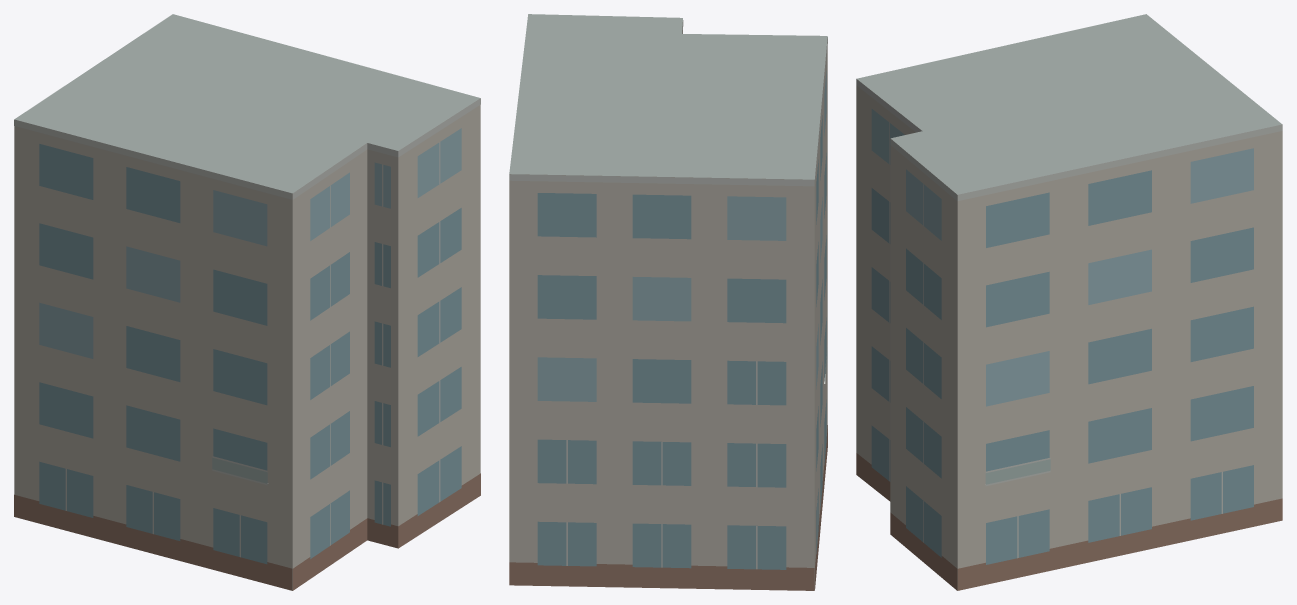
Rendered from survey-upis-32883459.glb.
The picture shows the model from 3 angles, left to right: view 1: azimuth 30°, elevation 25°; view 2: azimuth 150°, elevation 25°; view 3: azimuth 270°, elevation 25°; orthographic projection. The views are drawn at different scales.
Visible parts, largest first — view 1: survey-upis-32883459.tmp; view 2: survey-upis-32883459.tmp; view 3: survey-upis-32883459.tmp.
Boxes of the visible parts, x1,y1,x2,y2 form: survey-upis-32883459.tmp: [14, 14, 480, 590]; survey-upis-32883459.tmp: [509, 14, 827, 590]; survey-upis-32883459.tmp: [856, 14, 1282, 590].
Size of the model in its own units: 14.7 by 15 by 14.64.
